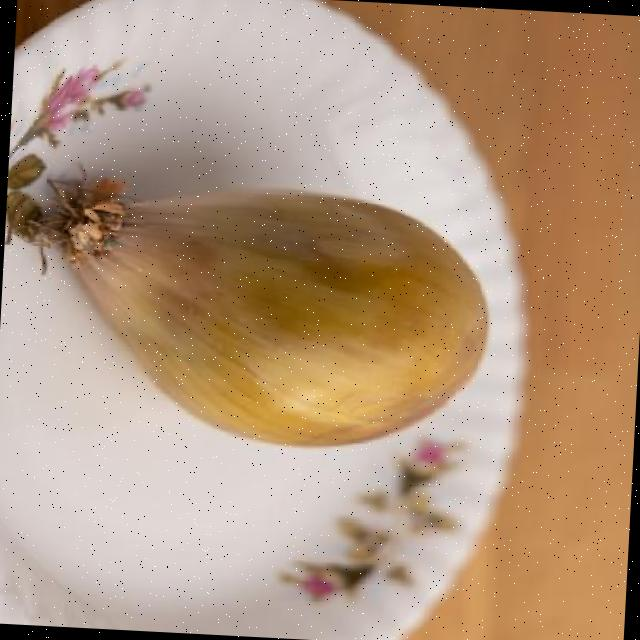Onion: (5, 181, 485, 448)
